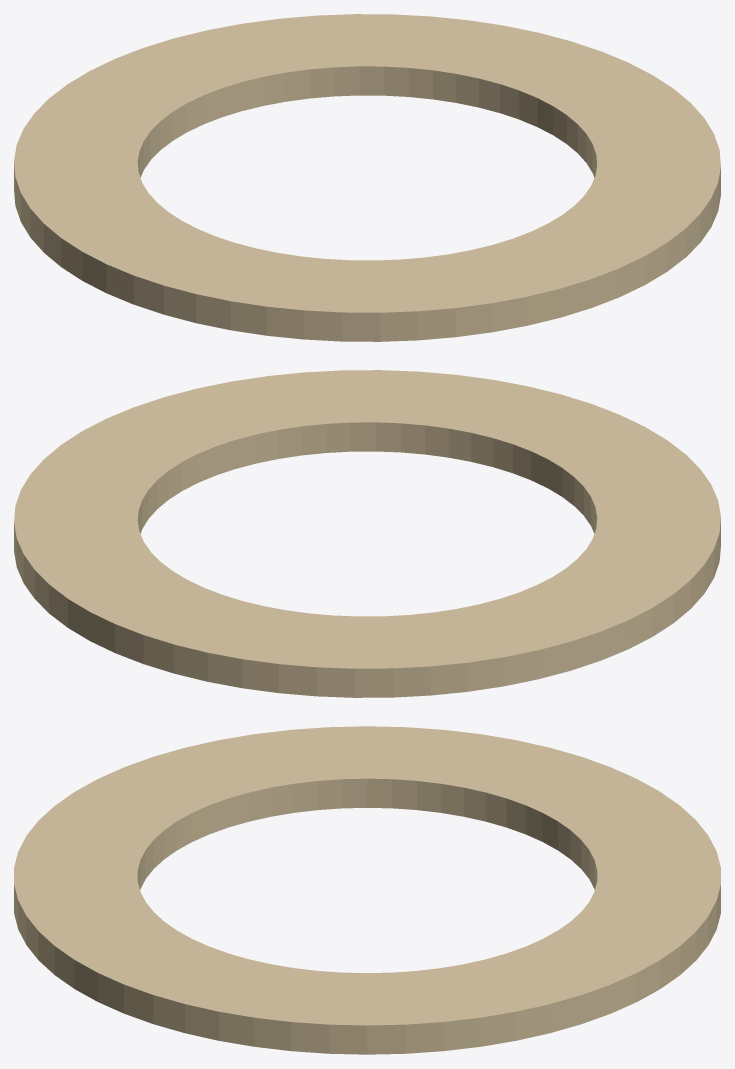
The model's file is oil-pan-drain-gasket.glb.
3 views of the same model, one above another, from view 1: azimuth 30°, elevation 25°; view 2: azimuth 150°, elevation 25°; view 3: azimuth 270°, elevation 25° (orthographic).
Parts seen in each view (by area): view 1: world; view 2: world; view 3: world.
Part boxes in pixels (x1,y1,x2,y2): world: (14,14,720,341); world: (14,370,720,697); world: (14,726,720,1054).
Bounding box in the file's own units: 0.022 × 0.001 × 0.022.
